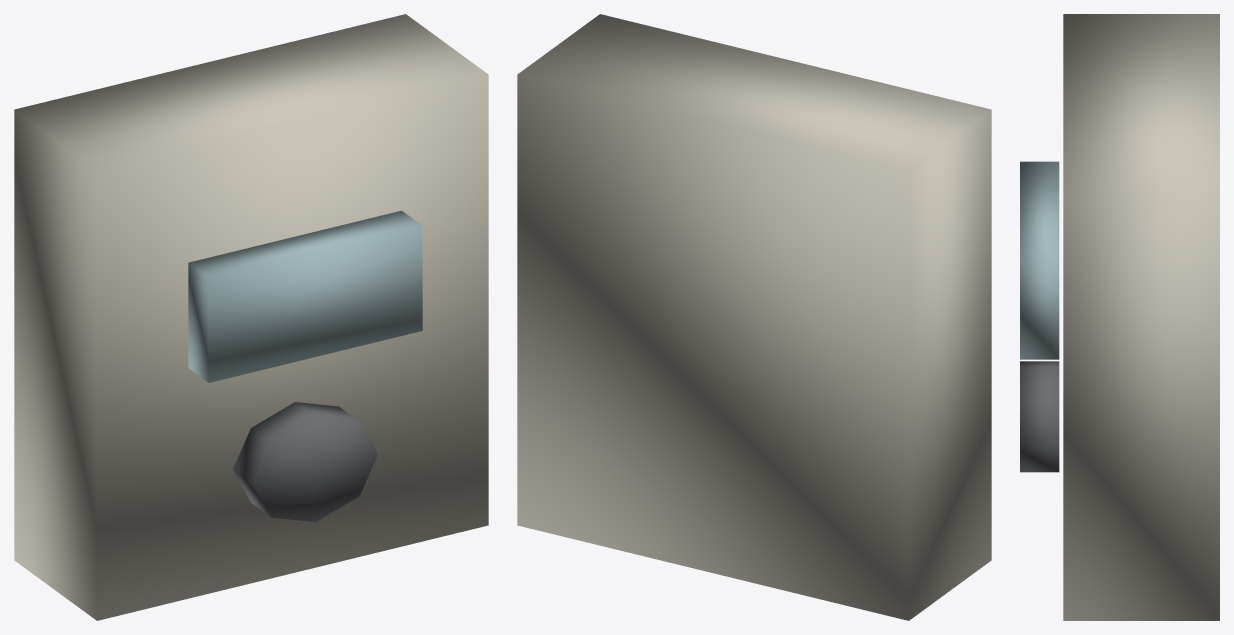
File: wall_thermostat__wide.glb
3 renders of one model, left to right at view 1: azimuth 30°, elevation 25°; view 2: azimuth 150°, elevation 25°; view 3: azimuth 270°, elevation 25°, orthographic. The views are drawn at different scales.
Parts seen in each view (by area): view 1: world; view 2: world; view 3: world.
Part boxes in pixels (x1,y1,x2,y2): world: [14, 14, 488, 620]; world: [517, 14, 991, 620]; world: [1020, 14, 1219, 620].
Size of the model in its own units: 0.2728 by 0.3 by 0.1275.
